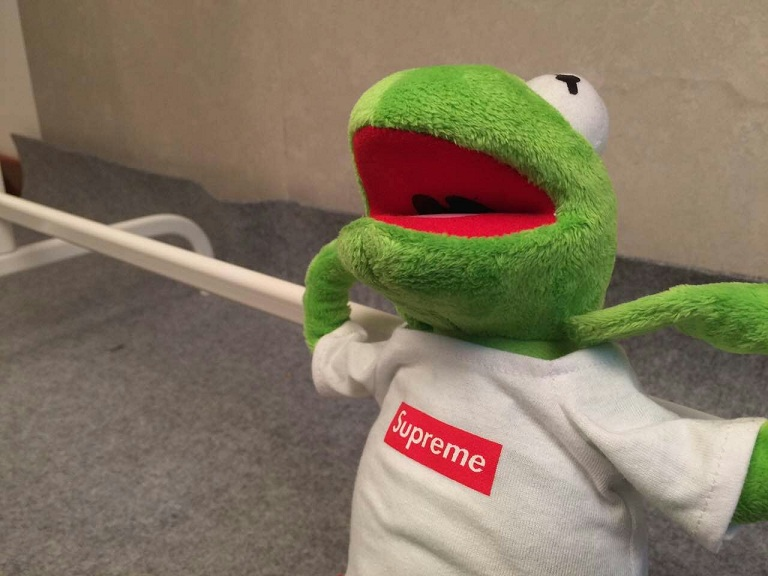kermit: (339, 56, 629, 343)
